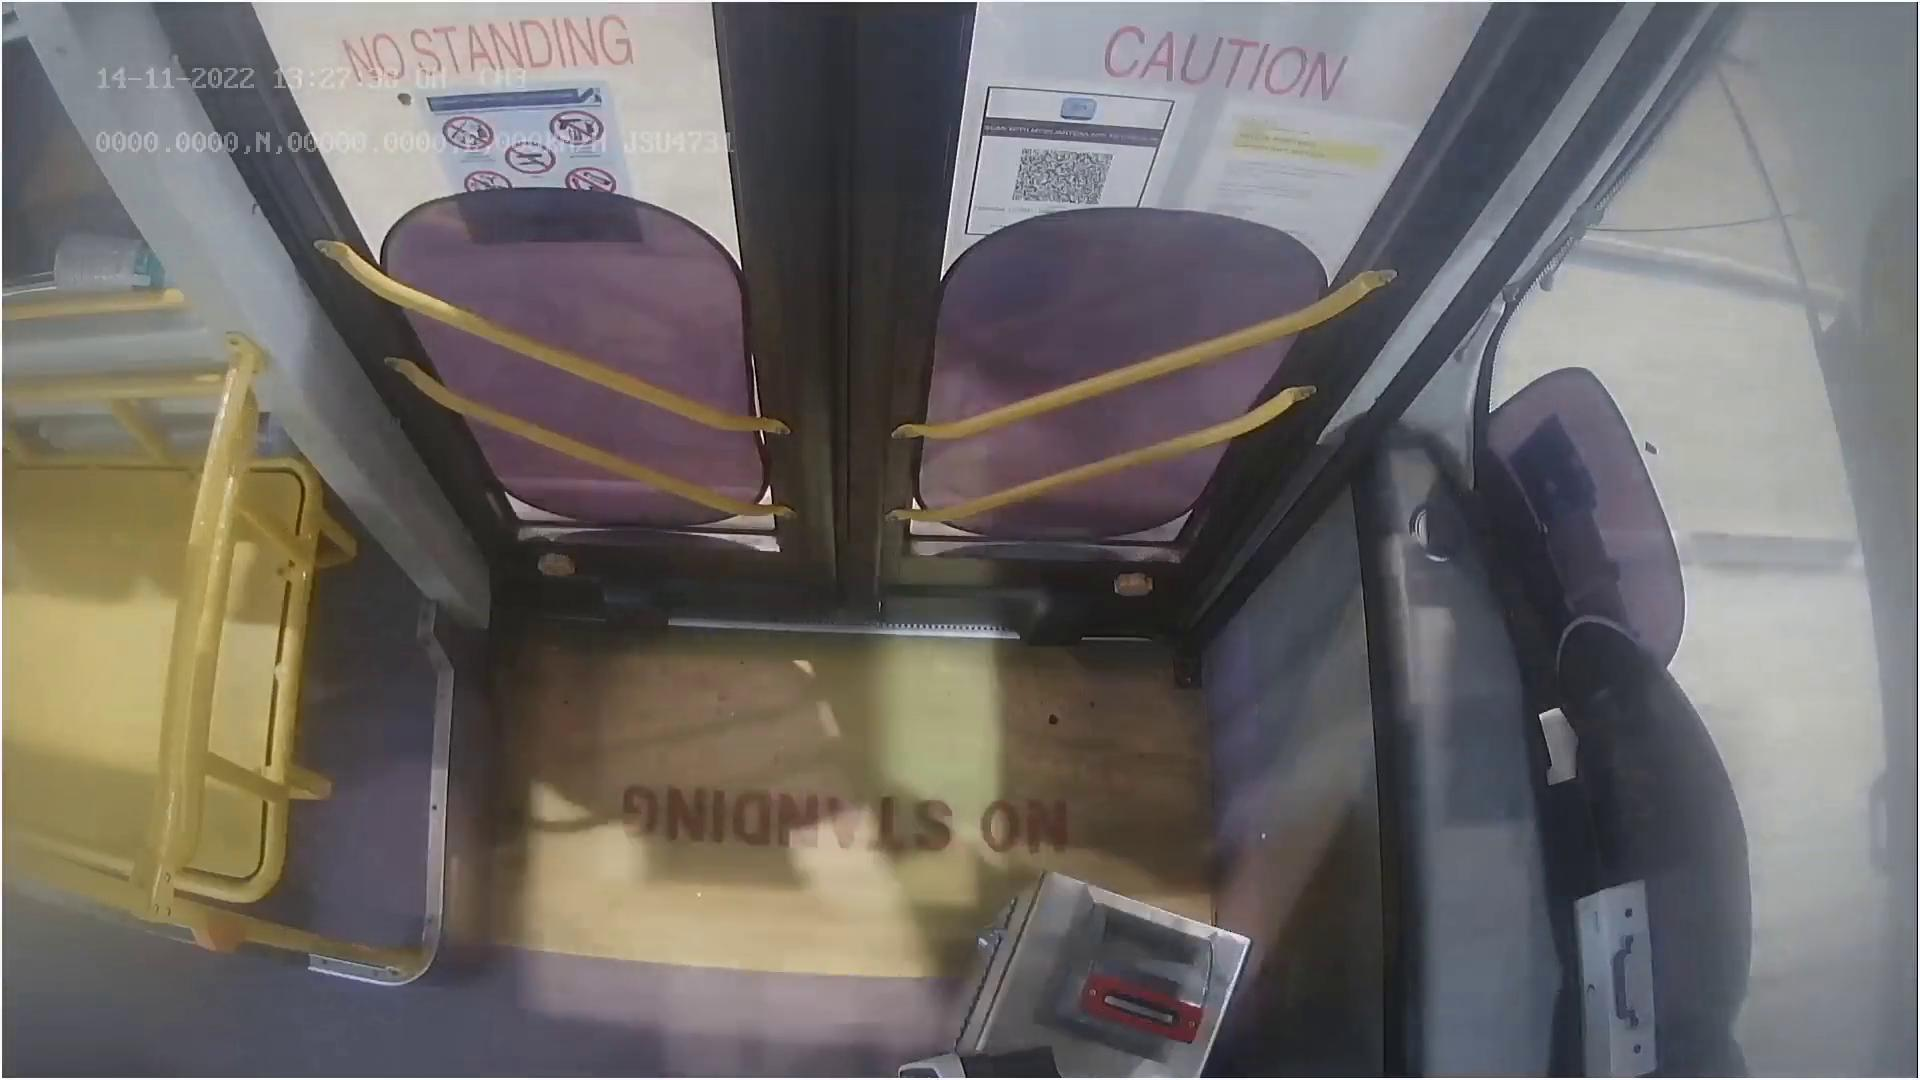close: (289, 0, 1444, 164)
